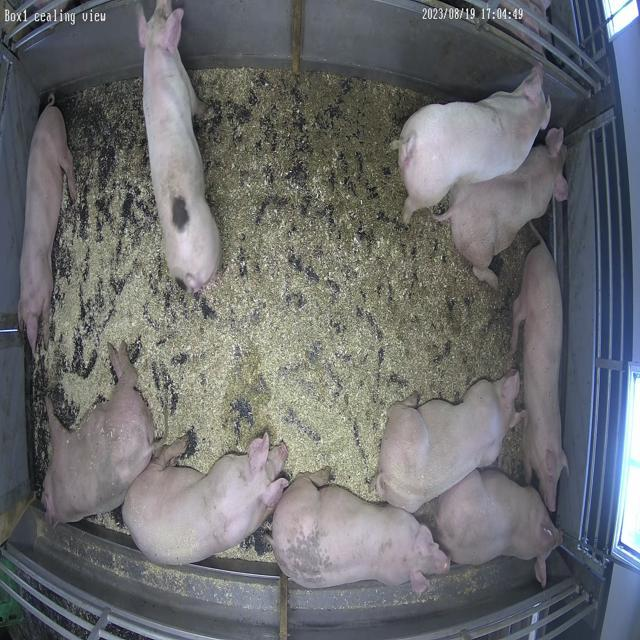Dirt: (230, 69, 421, 238), (221, 351, 271, 446)
Pig: (138, 0, 221, 292), (122, 434, 289, 566), (272, 471, 450, 594), (41, 343, 153, 526), (378, 372, 521, 514), (418, 470, 564, 586), (18, 95, 76, 352)
